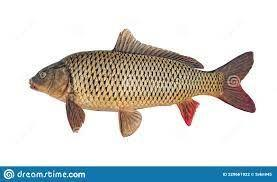Grass Carp: (28, 28, 257, 137)
